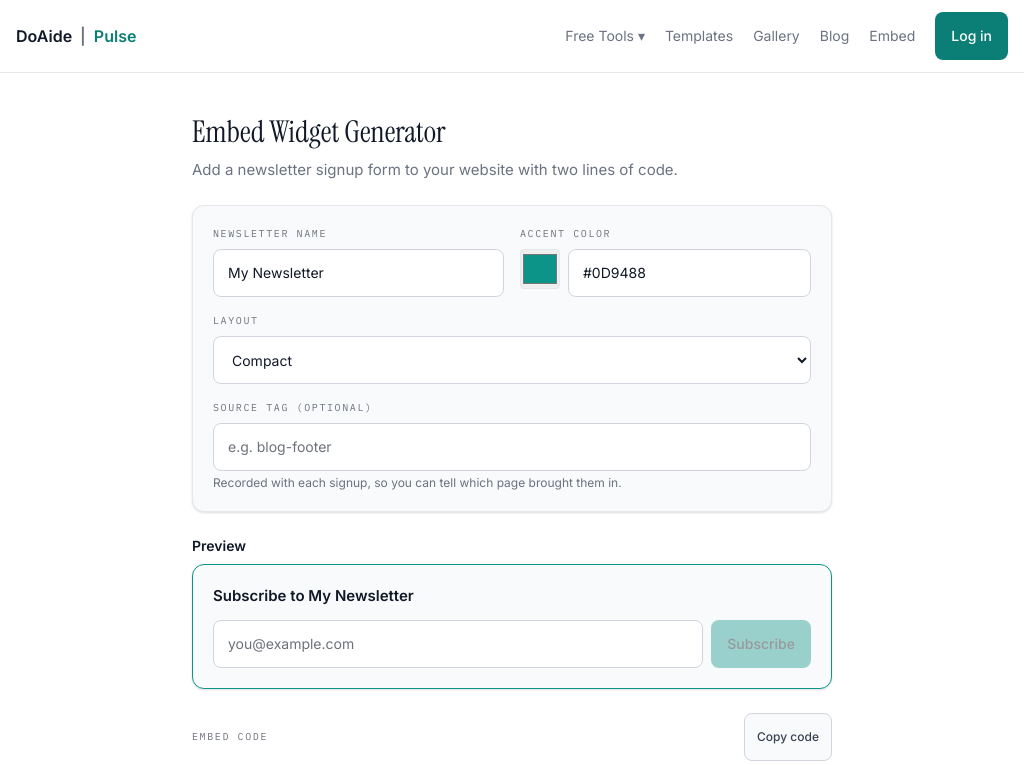
Scenario: Embed generator › copies the snippet and says so
What coordinates should you click on to do the following:
click the button "Copy code"
I would click on:
 (788, 736)
Its box is left=744, top=712, right=832, bottom=760.
(page scrolled)
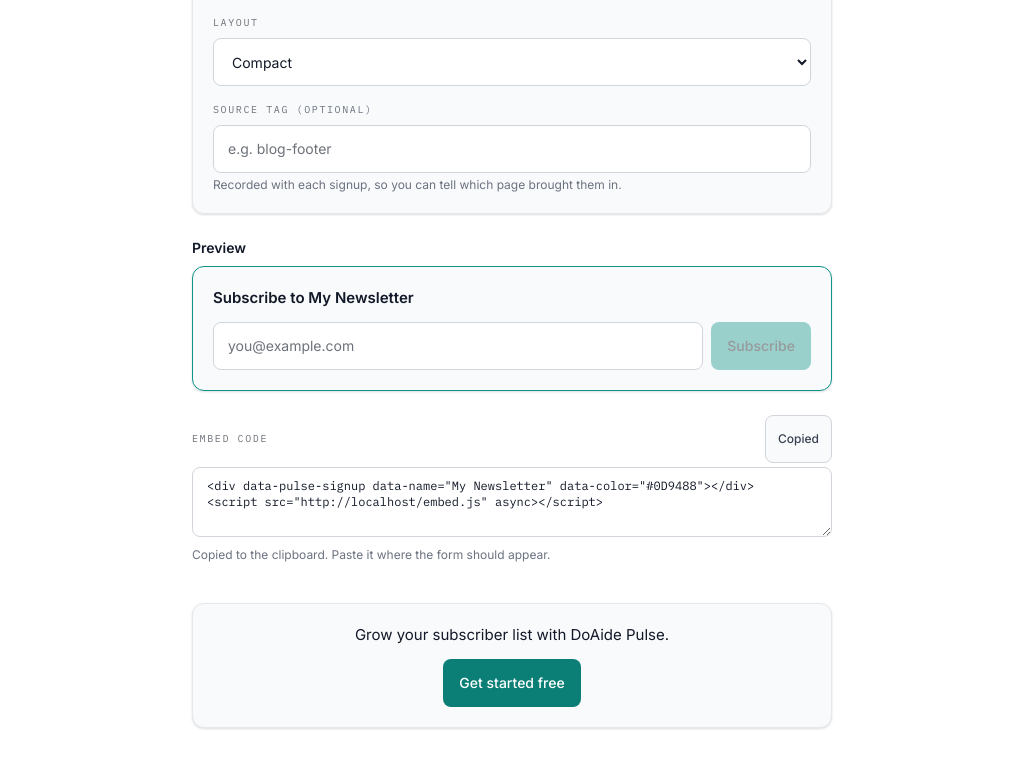
Expected: the message shows "Copied to the clipboard", left=192, top=547, right=550, bottom=562
